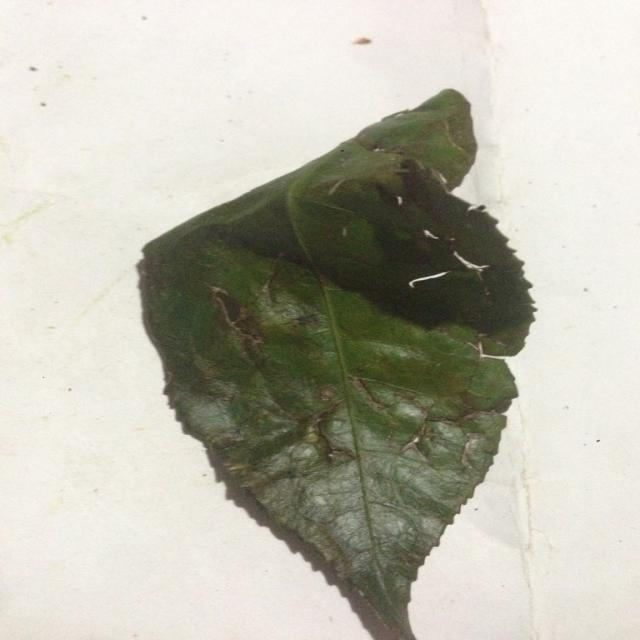Red Leaf Spot: (134, 86, 536, 640)
